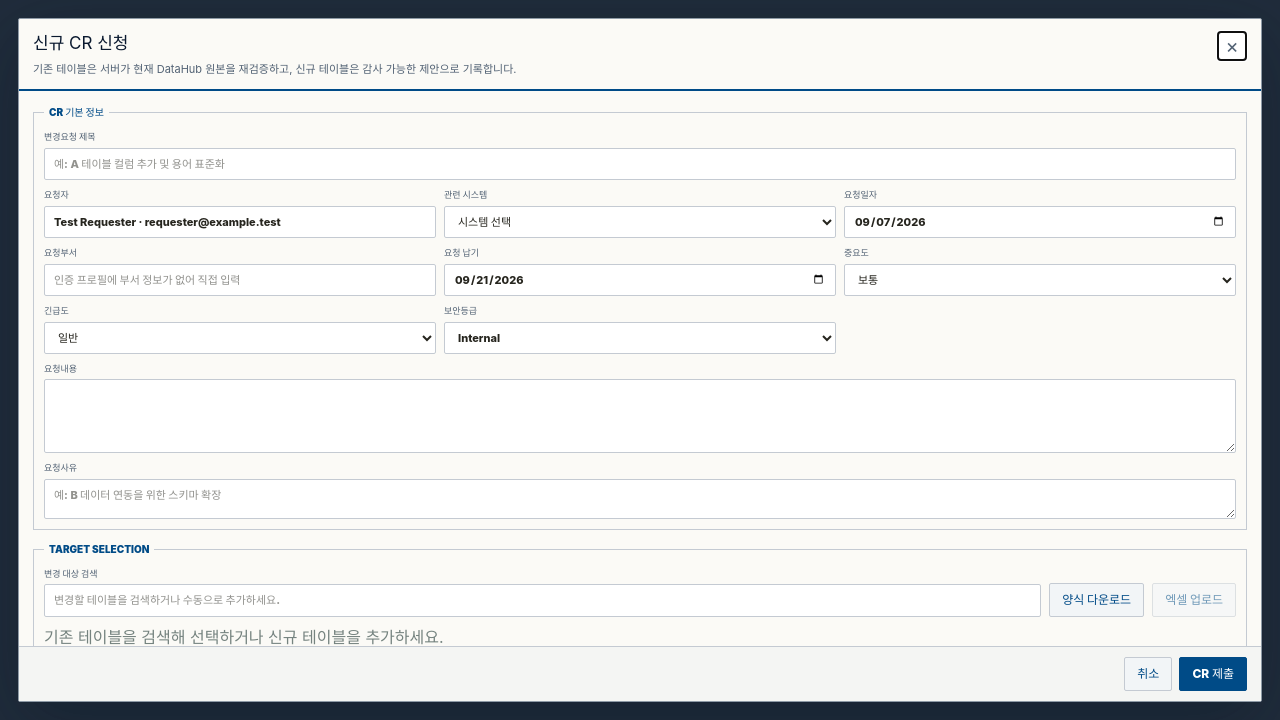
Test: ChangeRequestCreateDialog › keeps target file actions beside search and explains an unavailable system on submit
expect the element labelled "변경 대상 검색" is shown: met, box [44,566,1236,616]
expect the button "양식 다운로드" is shown: met, box [1049,582,1144,616]
Click the button "CR 제출" at {"x": 1213, "y": 674}, box [1179,657,1247,691]
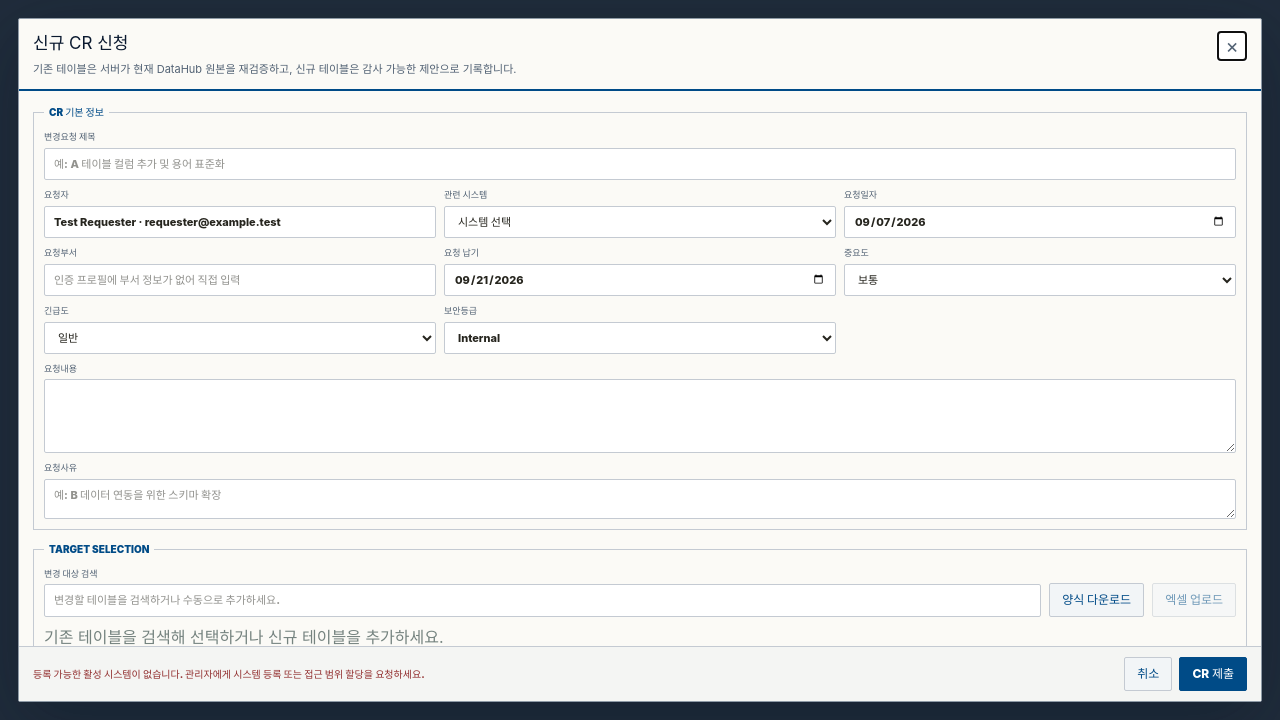
expect the message shows "등록 가능한 활성 시스템이 없습니다.": met, box [33,668,425,680]
